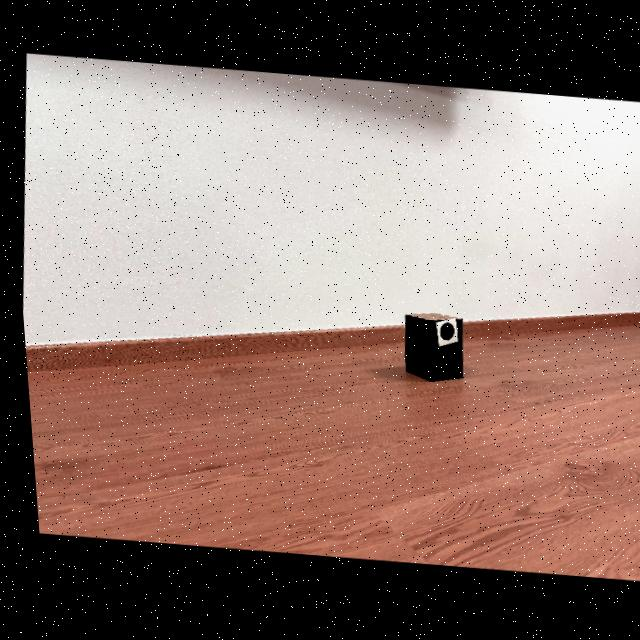CIRCLE: (435, 323, 449, 341)
